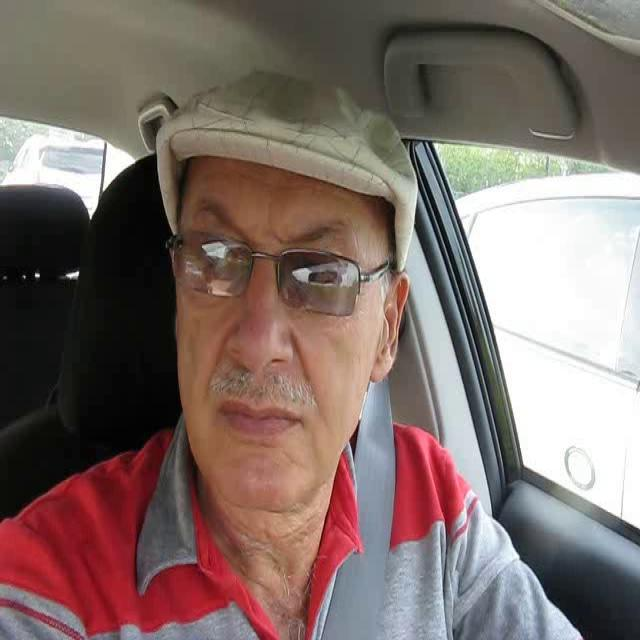close: (214, 394, 304, 444)
